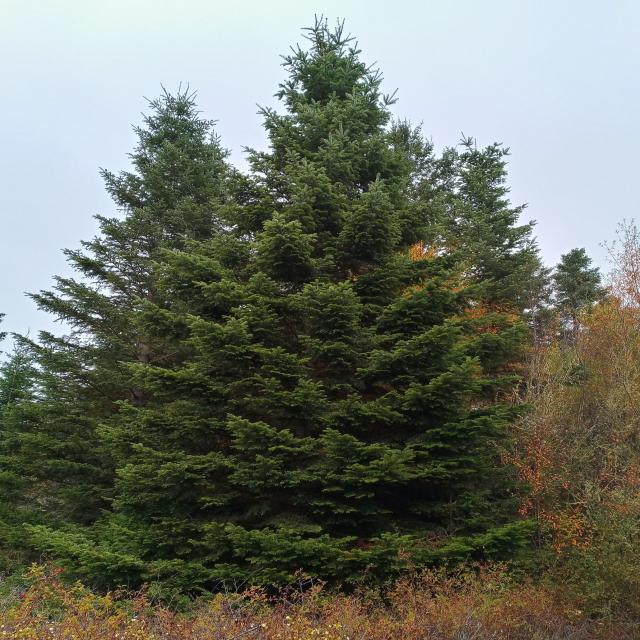Abies: (98, 32, 503, 594)
